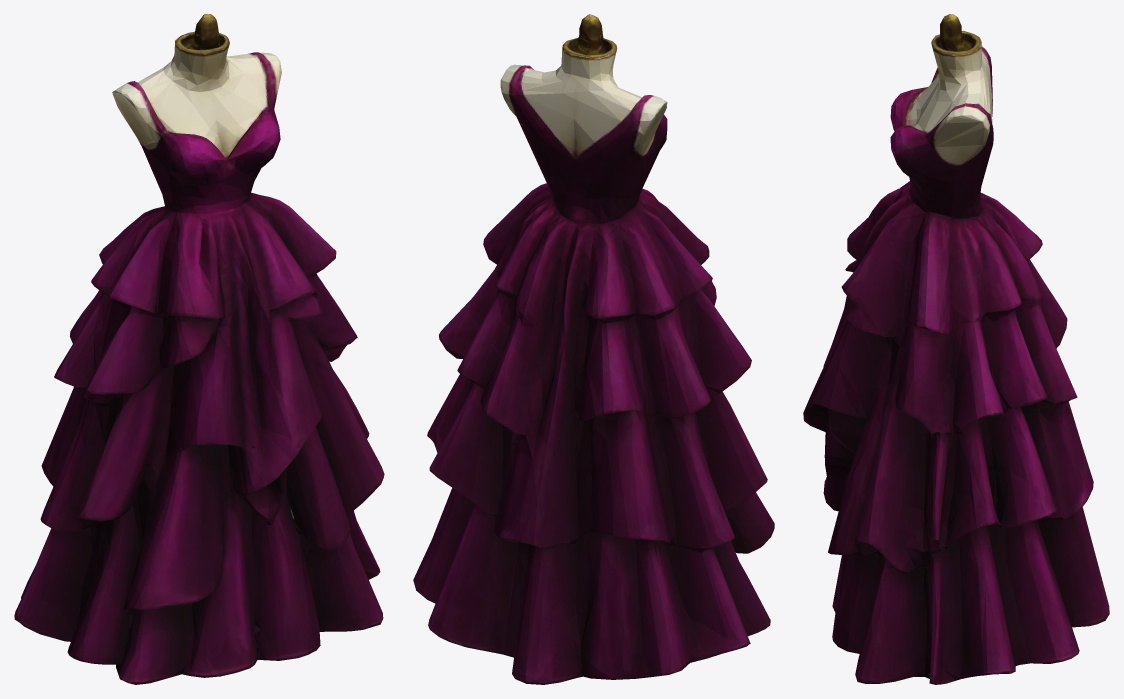
Rendered from dress_purple_ruffled_mannequin_2.glb.
3 views of the same model, side by side, from view 1: azimuth 30°, elevation 25°; view 2: azimuth 150°, elevation 25°; view 3: azimuth 270°, elevation 25° (orthographic).
Visible parts, largest first — view 1: geometry_0; view 2: geometry_0; view 3: geometry_0.
Boxes of the visible parts, x1,y1,x2,y2 form: geometry_0: [14, 14, 384, 684]; geometry_0: [413, 14, 774, 684]; geometry_0: [803, 14, 1109, 684].
Bounding box in the file's own units: 0.578 × 0.9958 × 0.4549.
Materials: 1 (1 with a texture image).
